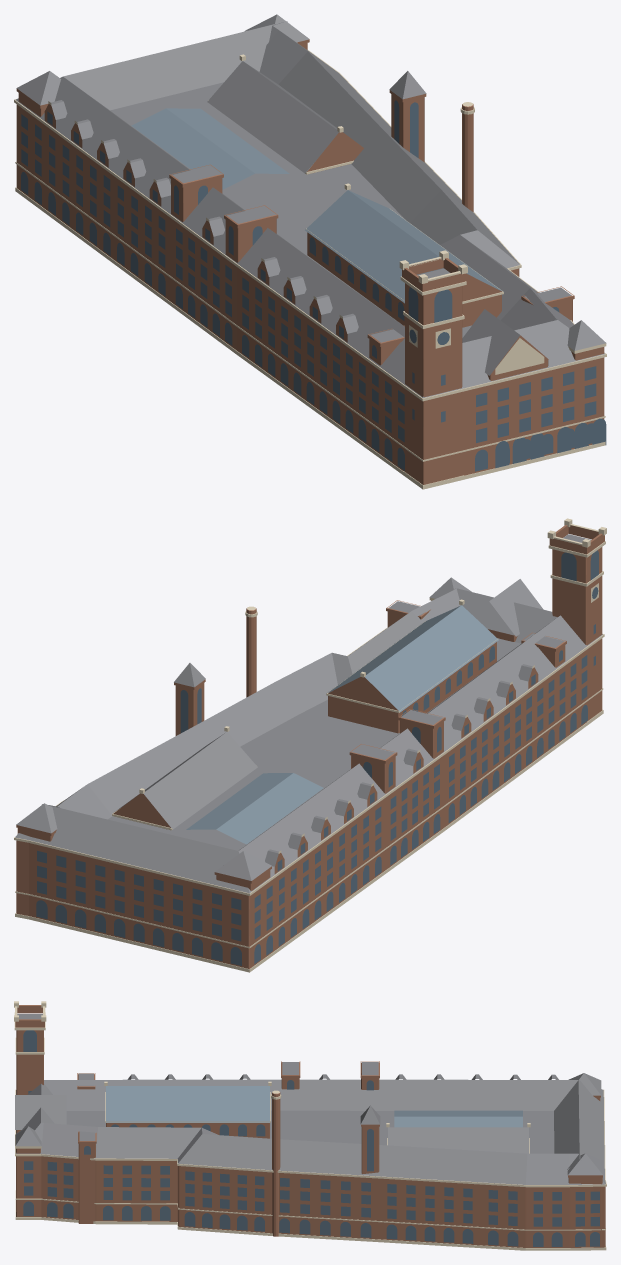
The model's file is amsterdam-beurs-van-berlage.glb.
3 renders of one model, top to bottom at view 1: azimuth 30°, elevation 25°; view 2: azimuth 150°, elevation 25°; view 3: azimuth 270°, elevation 25°, orthographic. The views are drawn at different scales.
Parts seen in each view (by area): view 1: Beurs van Berlage; view 2: Beurs van Berlage; view 3: Beurs van Berlage.
Boxes of the visible parts, left/top/right/bottom form: Beurs van Berlage: left=14, top=14, right=606, bottom=489; Beurs van Berlage: left=14, top=518, right=606, bottom=972; Beurs van Berlage: left=14, top=1001, right=606, bottom=1250.
Size of the model in its own units: 54.85 by 40.9 by 143.
